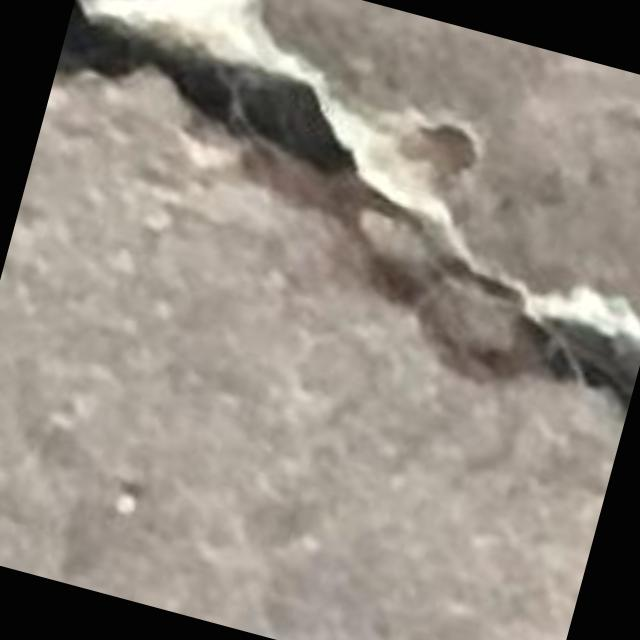crack: (56, 0, 639, 411)
